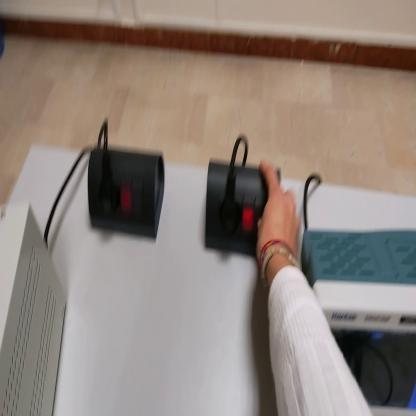hand: (256, 161, 302, 266)
oscilloscope: (304, 219, 416, 411)
power supply: (1, 202, 69, 416)
socket: (204, 157, 279, 264), (88, 145, 168, 245)
